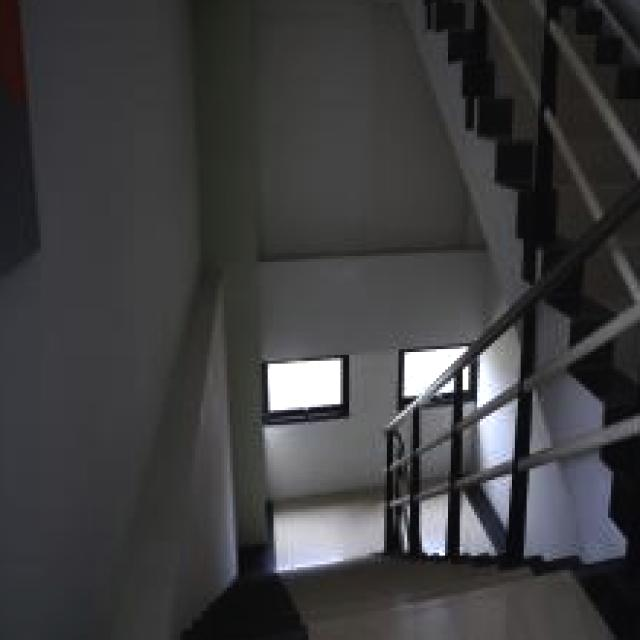downstair: (225, 574, 594, 640)
